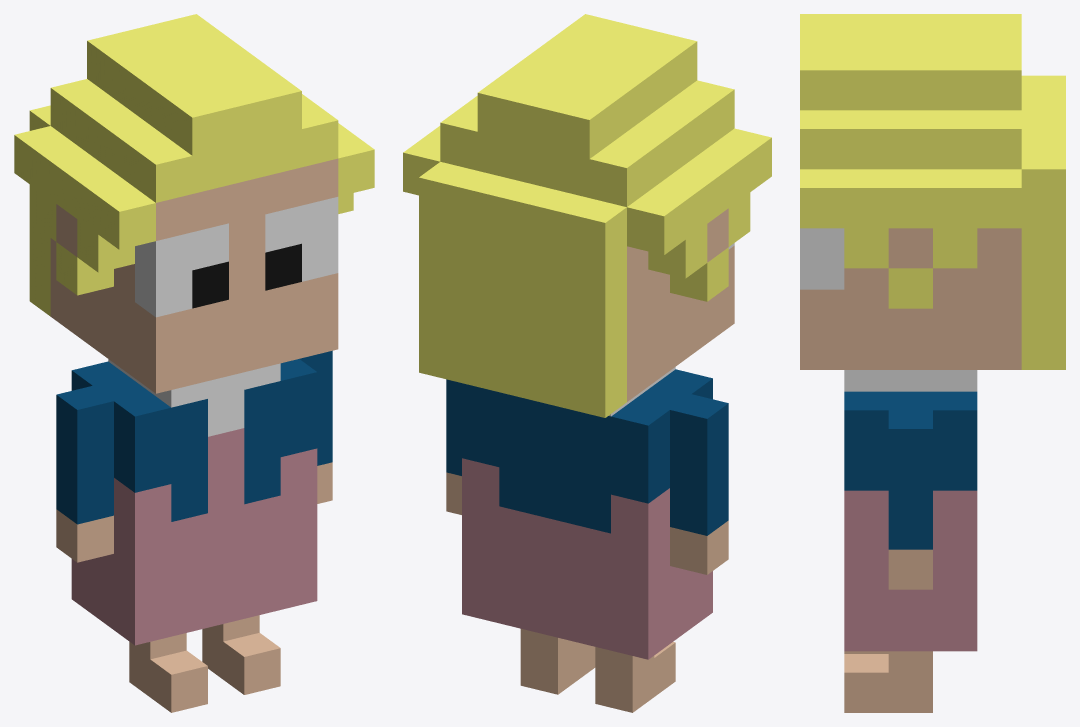
Rendered from once.obj.
3 renders of one model, left to right at view 1: azimuth 30°, elevation 25°; view 2: azimuth 150°, elevation 25°; view 3: azimuth 270°, elevation 25°, orthographic. The views are drawn at different scales.
Bounding box in the file's own units: 0.7 × 1.6 × 0.6.
Materials: 1 (1 with a texture image).
